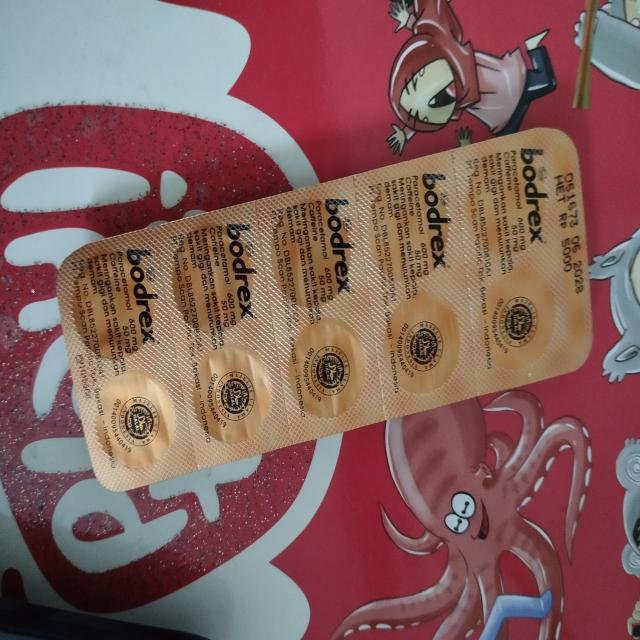B3: (54, 126, 592, 495)
